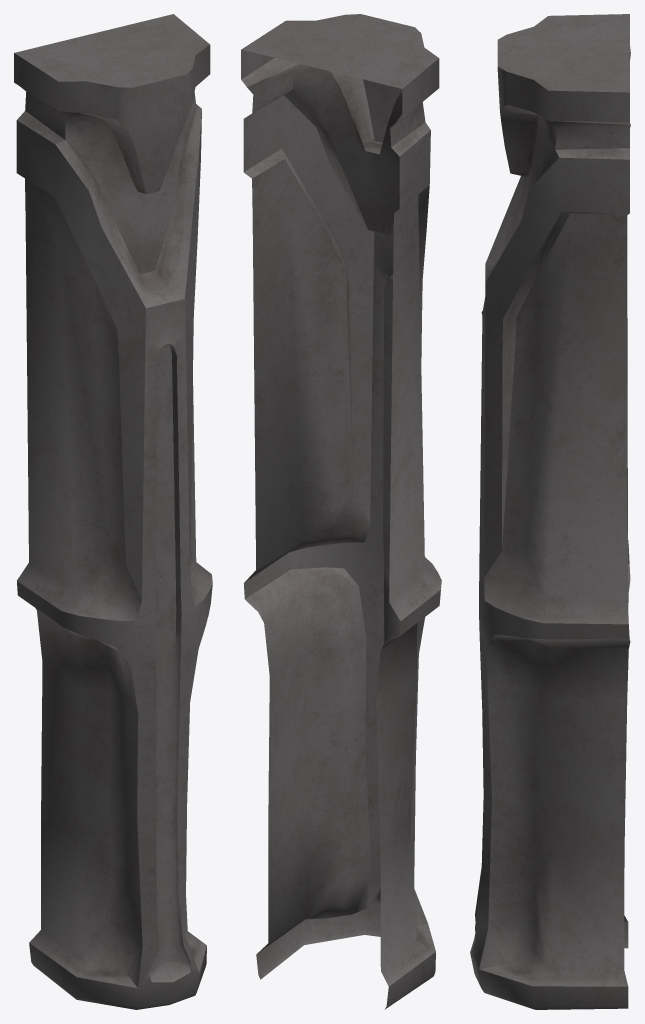
The model's file is SD2_Column.fbx.
The picture shows the model from 3 angles, left to right: view 1: azimuth 30°, elevation 25°; view 2: azimuth 150°, elevation 25°; view 3: azimuth 270°, elevation 25°; orthographic projection.
Visible parts, largest first — view 1: SD2_column; view 2: SD2_column; view 3: SD2_column.
Part boxes in pixels (x1,y1,x2,y2): SD2_column: (14,14,212,1009); SD2_column: (241,14,441,1009); SD2_column: (470,14,630,1009).
Bounding box in the file's own units: 49.05 × 42.45 × 269.
Materials: 1 (1 with a texture image).
